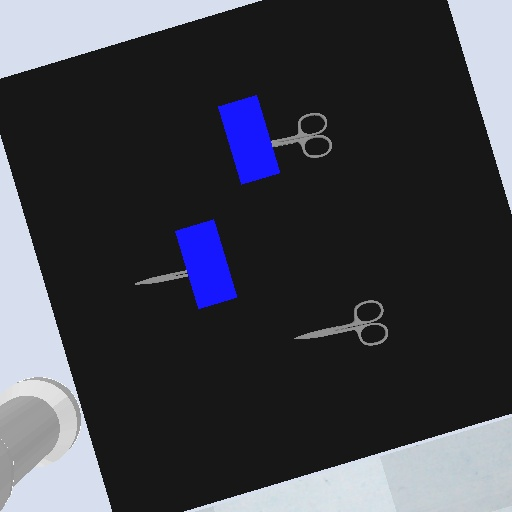tijera: (291, 296, 393, 349), (269, 110, 336, 161), (132, 268, 191, 288)
